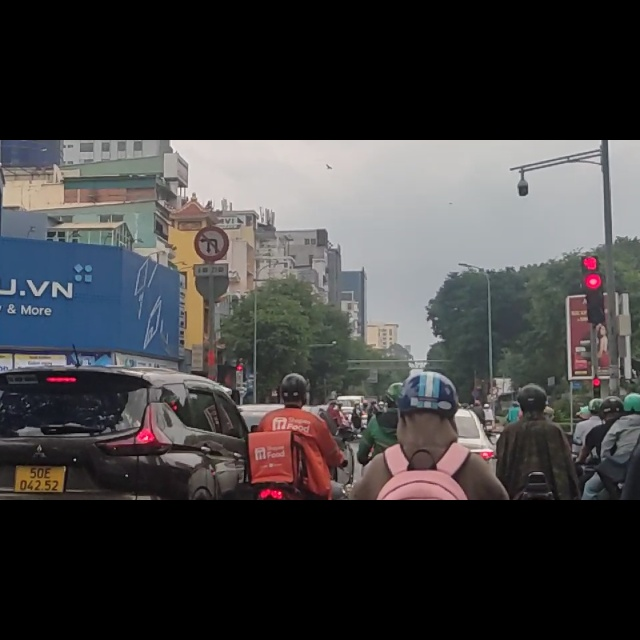bien_cam: (194, 155, 229, 216)
